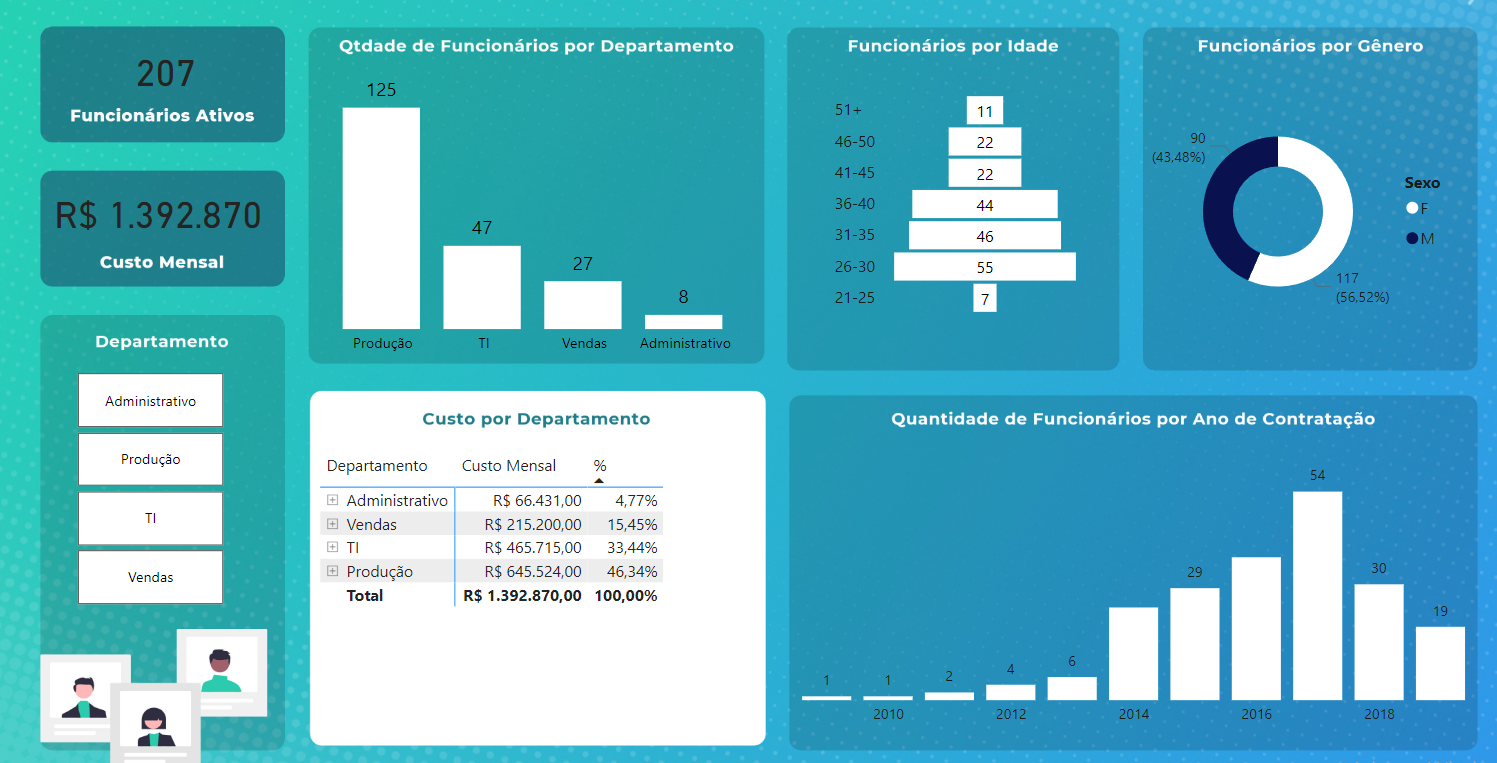

What the dashboard file says about the page in this screenshot:
{"tool":"powerbi","page":{"name":"Página 1","canvas":[1280,720],"ordinal":0},"visuals":[{"type":"card","title":"Custo Folha","fields":{"Values":["Sum(integrantes.Salário)"]},"box":[41.4,187.7,185.6,86.9],"z":0},{"type":"card","title":"Total de Funcionários","fields":{"Values":["CountNonNull(integrantes.ID)"]},"box":[41.2,63.6,199.6,94.8],"z":1000},{"type":"clusteredColumnChart","title":"Quantidade de Funcionários Por Departamento","fields":{"Category":["integrantes.Departamento"],"Y":["CountNonNull(integrantes.ID)"]},"box":[251.3,100.7,400.8,259.8],"z":2000},{"type":"funnel","fields":{"Category":["integrantes.Faixa de Idade"],"Y":["CountNonNull(integrantes.ID)"]},"box":[699.7,126,218.3,197.1],"z":3000},{"type":"clusteredColumnChart","title":"Quantidade de Funcionários Por Data de Contratação","fields":{"Y":["CountNonNull(integrantes.ID)"],"Category":["integrantes.Data de Contratação.Variation.Hierarquia de datas.Ano","integrantes.Data de Contratação.Variation.Hierarquia de datas.Trimestre","integrantes.Data de Contratação.Variation.Hierarquia de datas.Mês","integrantes.Data de Contratação.Variation.Hierarquia de datas.Dia"]},"box":[672.3,429.1,568.8,244.5],"z":4000},{"type":"pivotTable","fields":{"Rows":["integrantes.Departamento","integrantes.Cargo"],"Values":["Sum(integrantes.Salário)","Divide(Sum(integrantes.Salário), ScopedEval(Sum(integrantes.Salário), []))"]},"box":[265.7,429.1,374.2,255.7],"z":5000},{"type":"slicer","fields":{"Values":["integrantes.Departamento"]},"box":[41.2,360.5,172.1,208.3],"z":6000},{"type":"donutChart","fields":{"Category":["integrantes.Sexo"],"Y":["CountNonNull(integrantes.ID)"]},"box":[966.7,101,274.4,259.4],"z":7000}]}

Visuals, with their boxes on the page's 1280x720 design canvas (x1, y1, x2, y2). These are canvas units, not pixel positions in the 1497x763 screenshot, which may show the page scaled, cropped or inside an application window:
"Custo Folha" card: 41, 188, 227, 275
"Total de Funcionários" card: 41, 64, 241, 158
"Quantidade de Funcionários Por Departamento" clusteredColumnChart: 251, 101, 652, 360
funnel - integrantes.Faixa de Idade x CountNonNull(integrantes.ID): 700, 126, 918, 323
"Quantidade de Funcionários Por Data de Contratação" clusteredColumnChart: 672, 429, 1241, 674
pivotTable - integrantes.Departamento x integrantes.Cargo: 266, 429, 640, 685
slicer - integrantes.Departamento: 41, 360, 213, 569
donutChart - integrantes.Sexo x CountNonNull(integrantes.ID): 967, 101, 1241, 360
